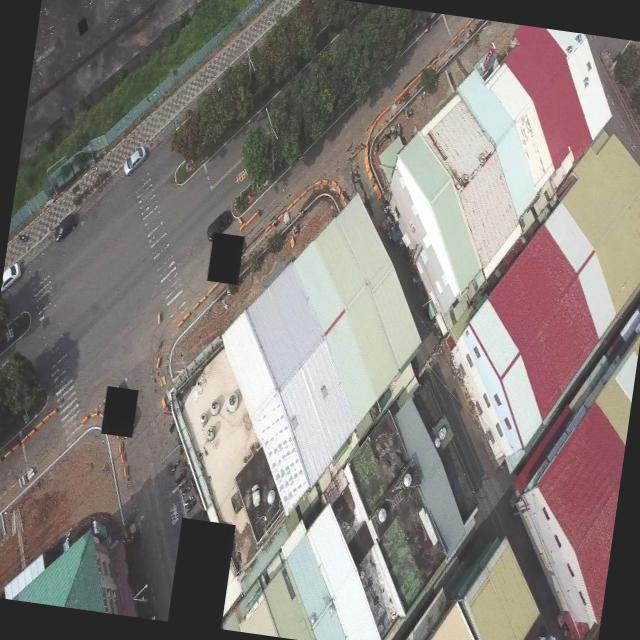bike: (186, 499, 196, 514), (184, 494, 194, 508), (170, 460, 178, 475), (175, 473, 183, 488), (181, 486, 191, 498)
car: (202, 208, 234, 242), (54, 210, 80, 244), (124, 144, 146, 176), (1, 260, 21, 292)
